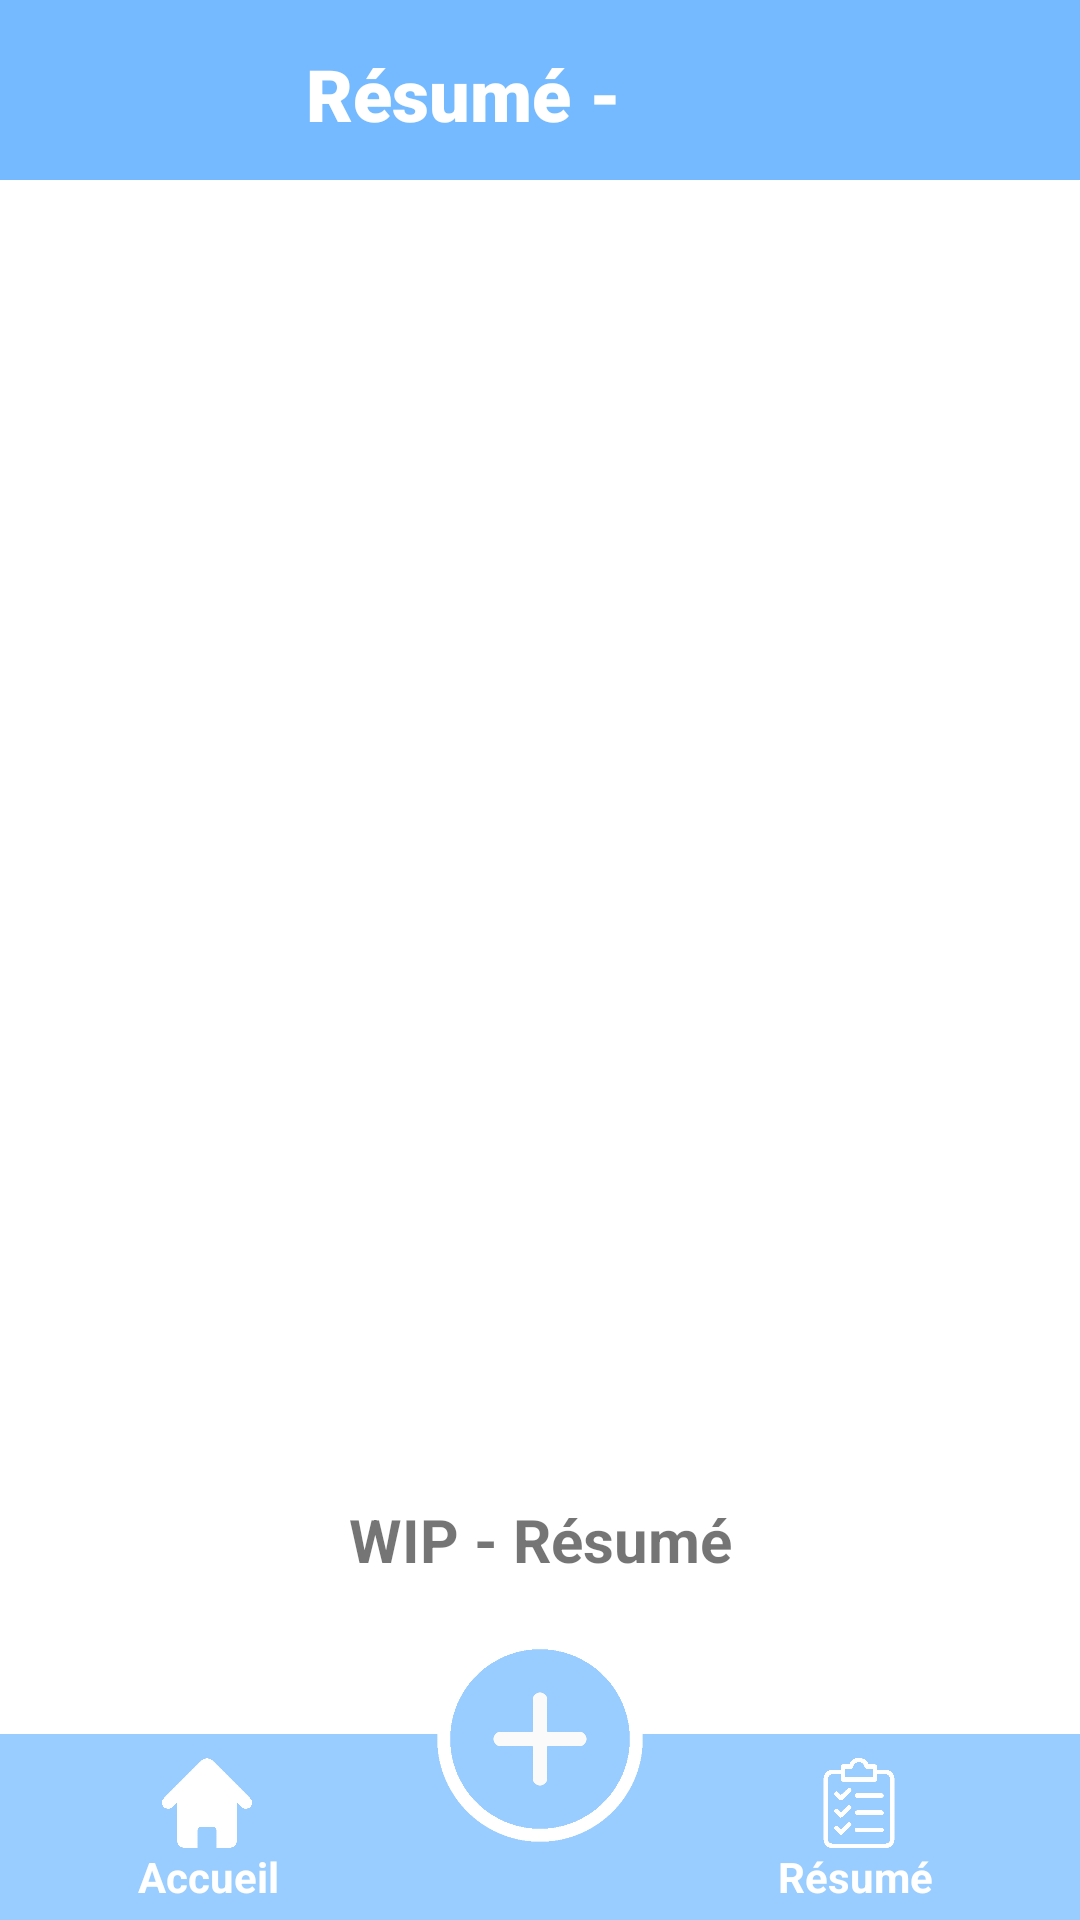

Screen size 1080 x 1920. Icon name, then its center in pixels as (x=x, y=y):
clipboard: (x=859, y=1803)
